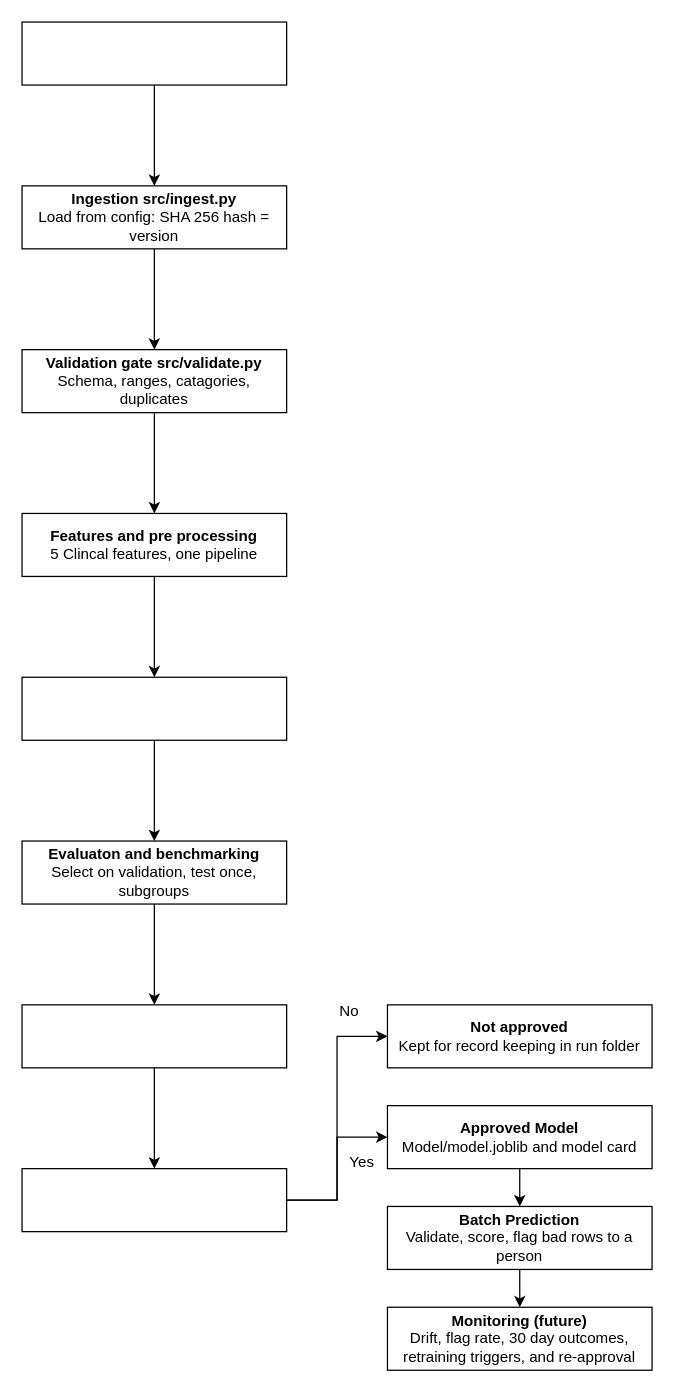
This 674x1392 diagram has some shape labels left out. The shapes that lost their labels are listed below. From the top down, each one's centre as x and y in pixels, then its label:
point (154, 53): Raw Data synthetic_clinical_dataset.csv 10,000 rows
point (154, 708): Training src/train.py Baseline, 2 models, Logistical regression, random forest
point (154, 1036): Run tracking run.json, commit, data hash, config, versions
point (154, 1199): Approval gate Test AUC must beat baseline by 0.05
